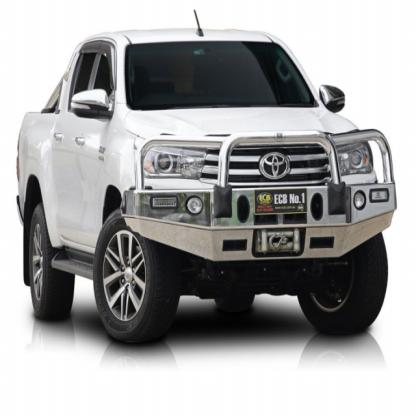light_vehicle: (12, 18, 406, 348)
